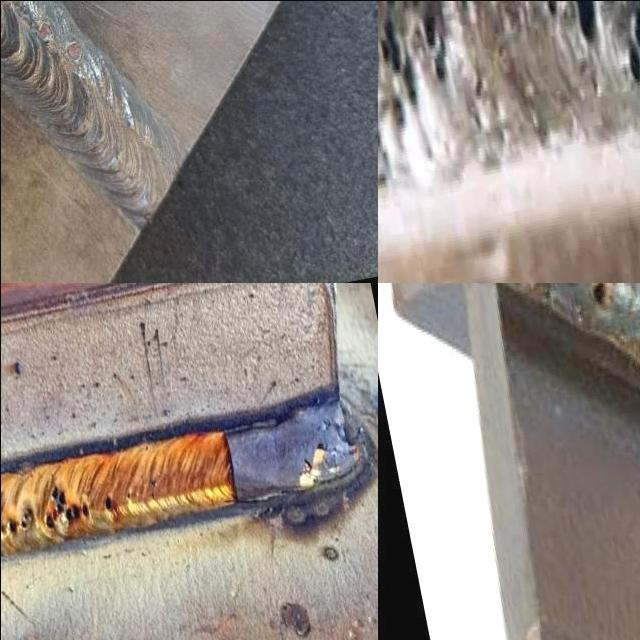defect: (377, 0, 454, 188), (41, 480, 91, 533), (623, 2, 640, 95), (466, 73, 489, 133), (0, 506, 32, 536), (585, 282, 612, 310), (35, 18, 57, 49), (61, 39, 84, 65), (122, 110, 136, 131), (102, 489, 114, 513), (147, 478, 157, 502), (123, 489, 130, 504)
